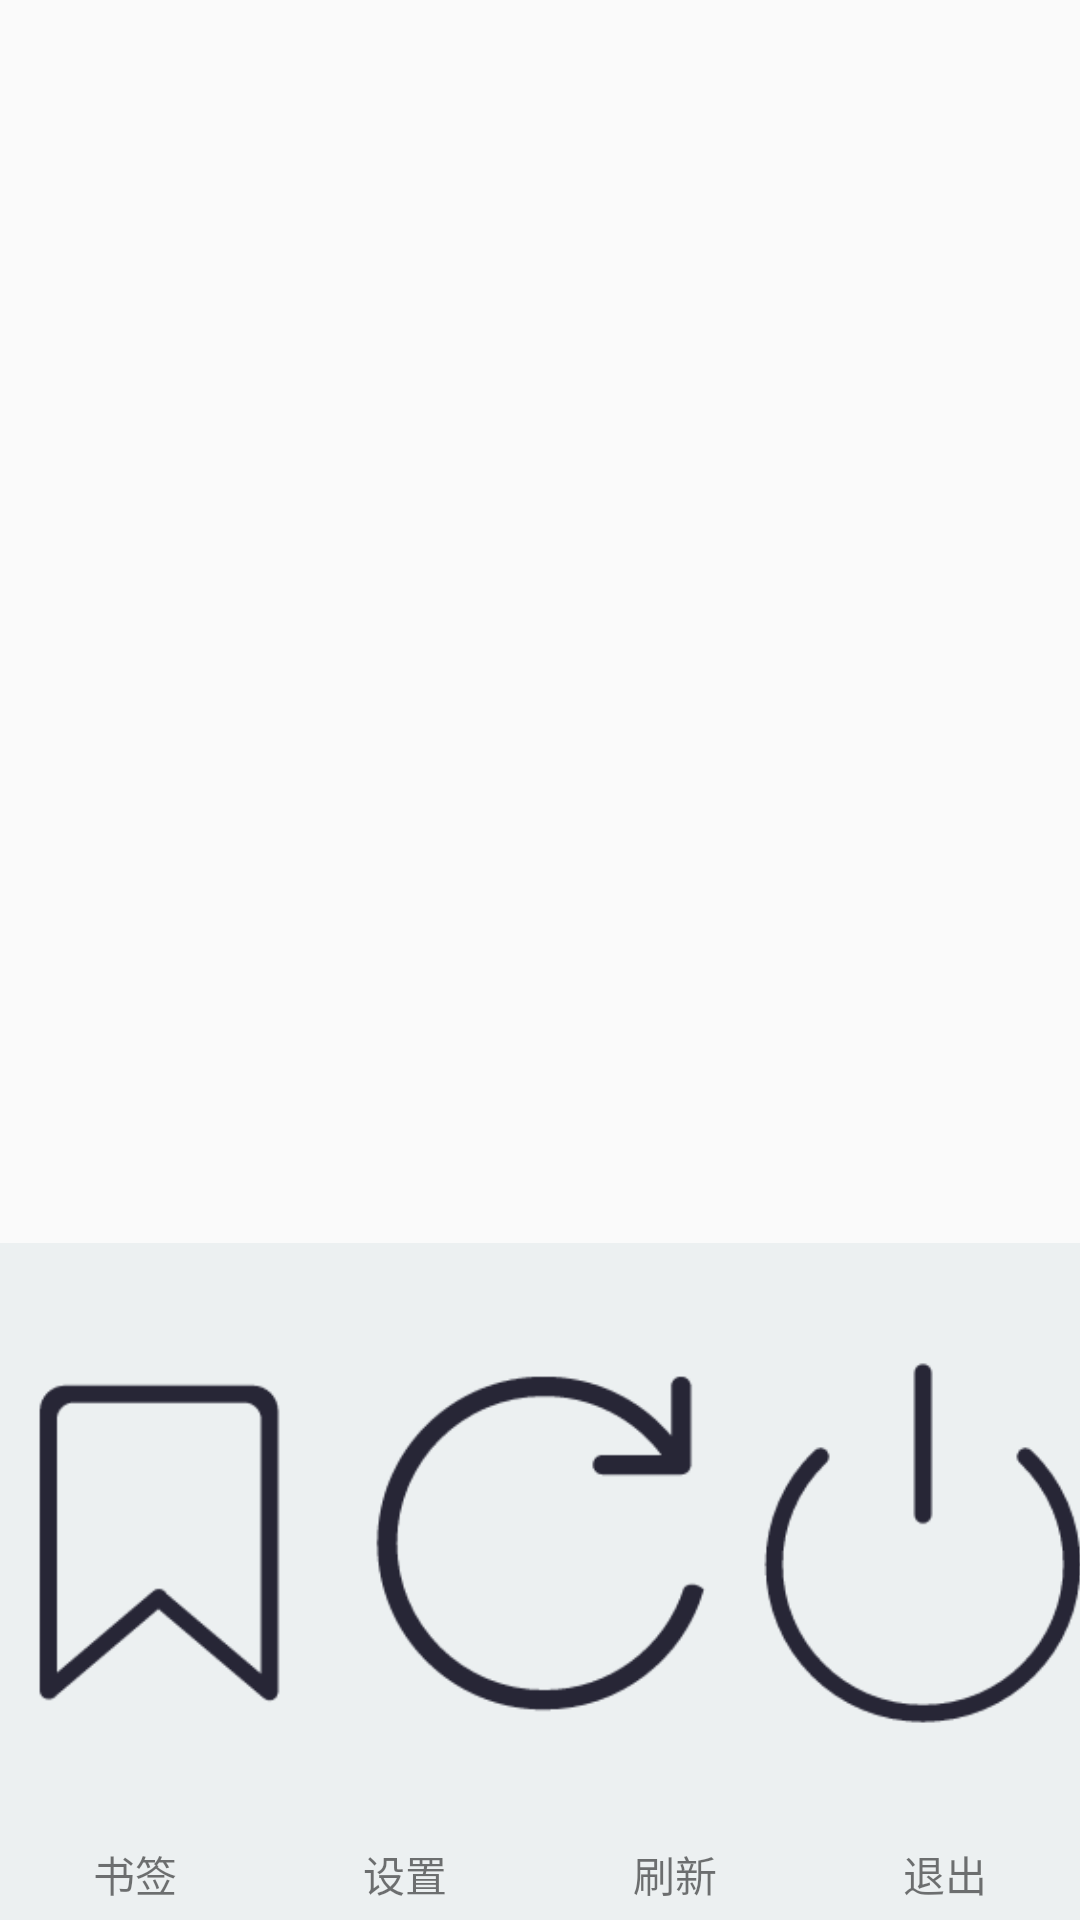

Icons on this 1080w x 1920h Android screen, each with the point to tap as (x,y):
bookmark: (159,1542)
exit: (922,1543)
refresh: (540,1543)
